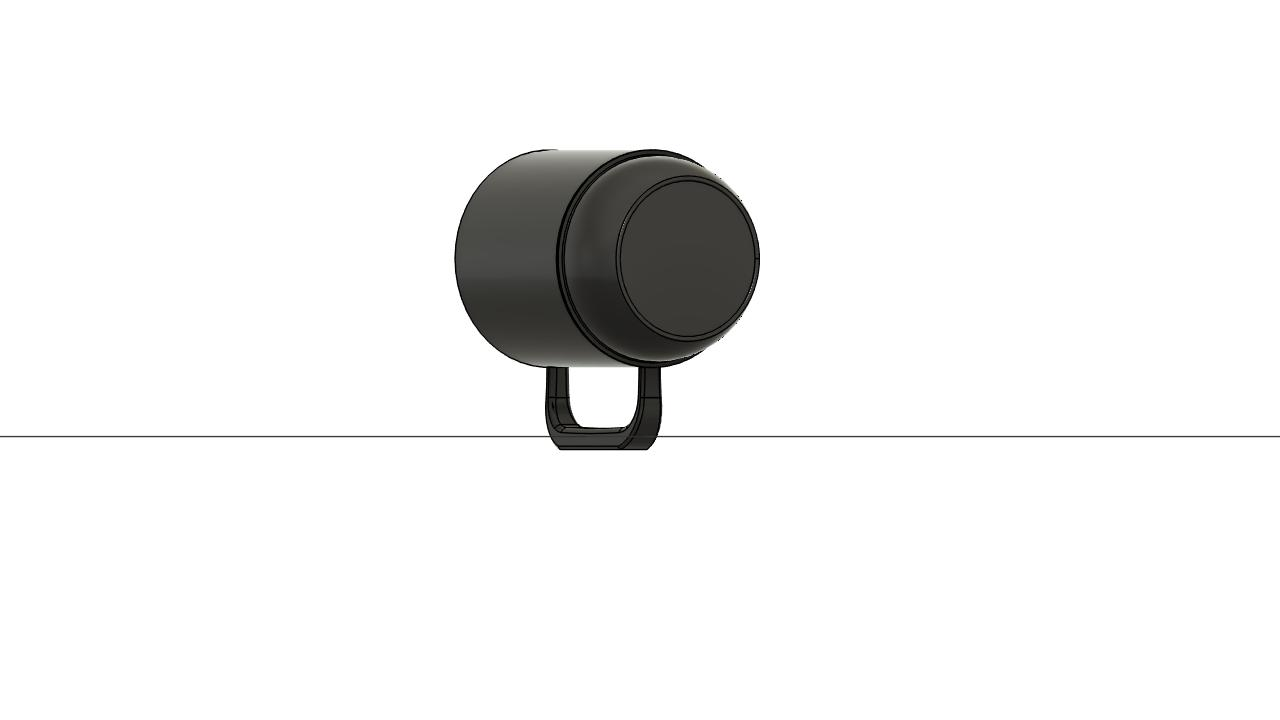mug-real100-3d100: (455, 150, 758, 449)
